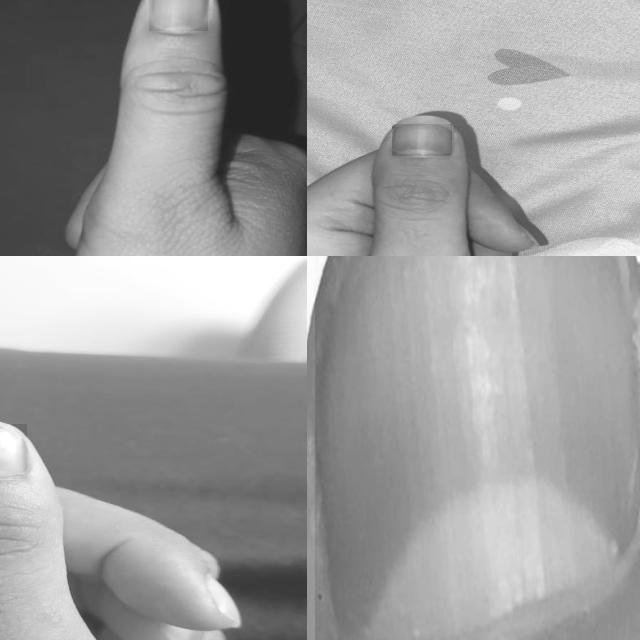sehat: (315, 256, 640, 640), (393, 124, 452, 156), (150, 0, 208, 31), (0, 428, 27, 478)
